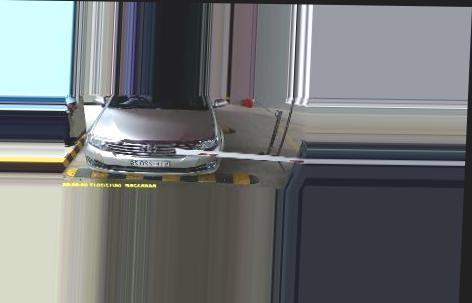License_Plate: (124, 157, 168, 170)
